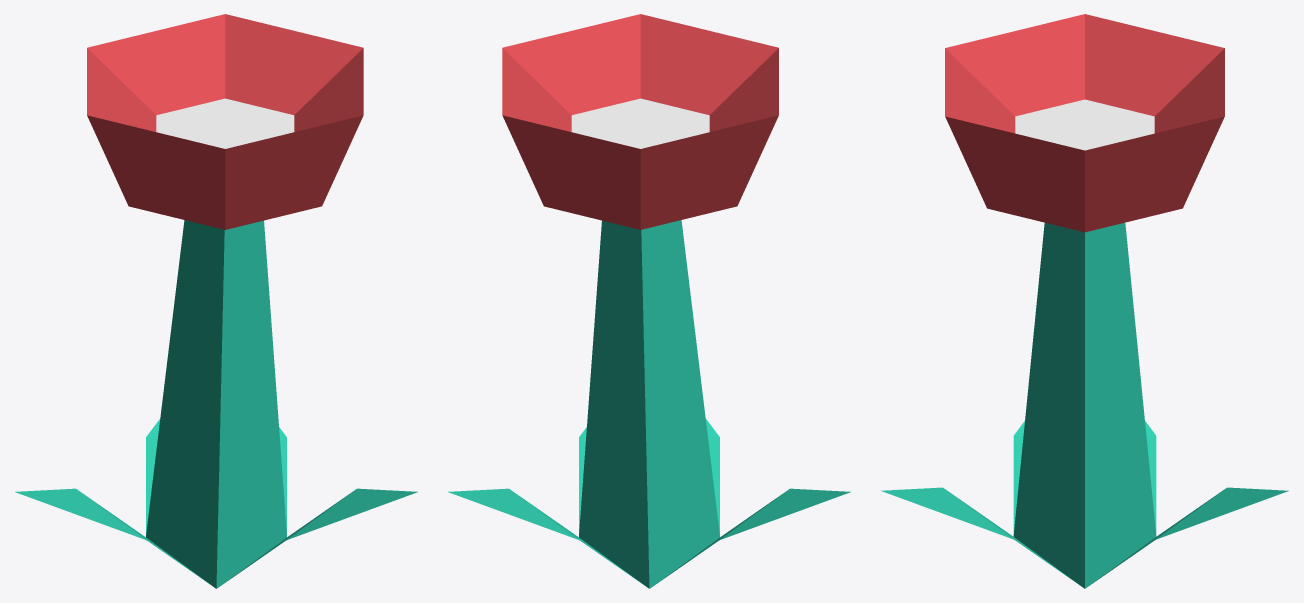
The model's file is flower-red-c.glb.
3 renders of one model, left to right at view 1: azimuth 30°, elevation 25°; view 2: azimuth 150°, elevation 25°; view 3: azimuth 270°, elevation 25°, orthographic.
Visible parts, largest first — view 1: flower_redC; view 2: flower_redC; view 3: flower_redC.
Boxes of the visible parts, <box> form: flower_redC: <box>15,14,417,588</box>; flower_redC: <box>448,14,850,588</box>; flower_redC: <box>881,14,1288,588</box>.
Size of the model in its own units: 0.1806 by 0.2325 by 0.1811.
